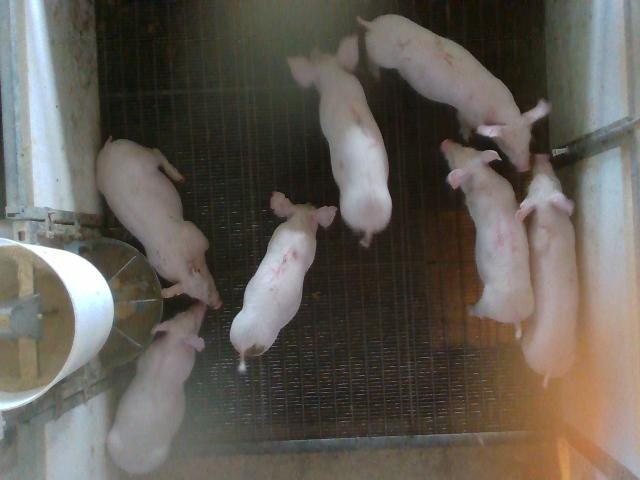pig-3: (288, 36, 391, 246)
pig-4: (441, 140, 535, 338)
pig-5: (230, 192, 336, 372)
